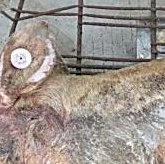text: (5, 40, 41, 76)
